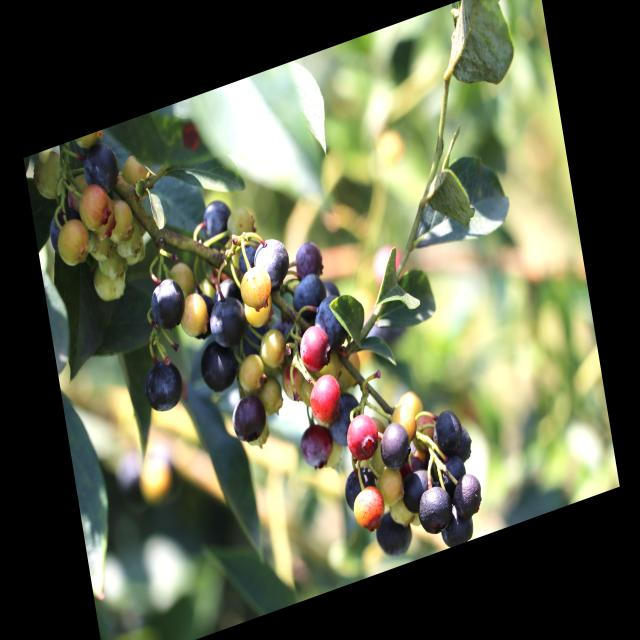blueberry: (141, 354, 187, 418), (204, 290, 248, 352), (251, 232, 293, 296), (326, 387, 365, 452), (198, 336, 239, 396), (311, 291, 351, 352), (82, 139, 122, 200), (147, 274, 187, 333), (45, 201, 85, 258), (374, 504, 413, 561), (230, 390, 270, 445), (340, 459, 380, 513), (377, 418, 414, 474), (416, 483, 455, 536), (398, 463, 436, 516), (449, 468, 484, 522), (436, 503, 476, 550), (200, 195, 236, 247), (298, 420, 334, 471), (290, 270, 327, 316), (431, 408, 464, 458), (437, 448, 469, 492), (293, 238, 324, 279), (454, 422, 474, 464)
blueberry-halfripe: (341, 408, 383, 466), (306, 372, 343, 429), (75, 180, 113, 232), (348, 483, 386, 533), (297, 320, 329, 372)
blueberry-unripe: (55, 215, 91, 272), (175, 289, 212, 343), (118, 150, 154, 205), (235, 260, 273, 310), (90, 260, 129, 308), (235, 349, 268, 398), (104, 196, 135, 244), (258, 325, 289, 373), (389, 400, 419, 446), (376, 463, 406, 509), (241, 295, 275, 334), (167, 257, 197, 298), (258, 374, 285, 416), (113, 223, 142, 261), (98, 247, 126, 279), (88, 234, 113, 264)
